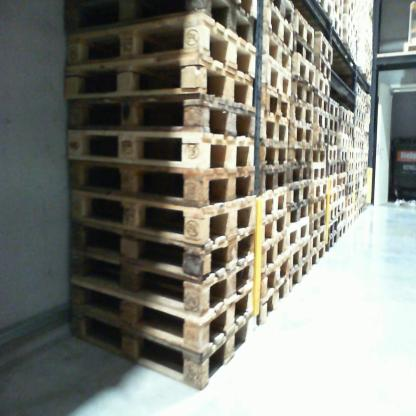pallet: (63, 273, 259, 357), (68, 307, 258, 386), (67, 236, 256, 307), (54, 211, 254, 275), (62, 147, 258, 210), (62, 17, 258, 75), (65, 51, 256, 109), (60, 183, 258, 238), (60, 91, 259, 144), (63, 4, 255, 41), (68, 131, 258, 167), (253, 19, 294, 71), (256, 3, 297, 52), (251, 203, 289, 252), (256, 250, 287, 308), (255, 277, 290, 327), (258, 222, 292, 272), (257, 183, 289, 225), (260, 57, 293, 97), (256, 110, 291, 147), (254, 160, 289, 196), (287, 3, 332, 30), (261, 86, 294, 121), (286, 54, 317, 86), (290, 29, 318, 63), (287, 76, 315, 109), (284, 233, 309, 268), (257, 143, 287, 171), (309, 110, 331, 147), (315, 56, 333, 101), (286, 219, 312, 249), (285, 262, 311, 292), (296, 7, 314, 47), (285, 157, 309, 184), (287, 196, 310, 224), (316, 29, 333, 65), (288, 142, 313, 166), (290, 119, 313, 144), (290, 181, 312, 207), (306, 229, 327, 254), (295, 97, 316, 121), (310, 195, 331, 218), (272, 3, 296, 23), (311, 242, 328, 265), (311, 207, 327, 231), (332, 16, 345, 45), (325, 91, 340, 116), (309, 147, 328, 165), (327, 107, 340, 133), (325, 125, 339, 148), (316, 90, 331, 110), (310, 165, 328, 180), (328, 3, 343, 21), (313, 180, 330, 195), (324, 145, 338, 163), (324, 218, 339, 234), (324, 234, 339, 250), (327, 200, 339, 218), (326, 163, 338, 180), (326, 171, 337, 189), (326, 189, 337, 205)
